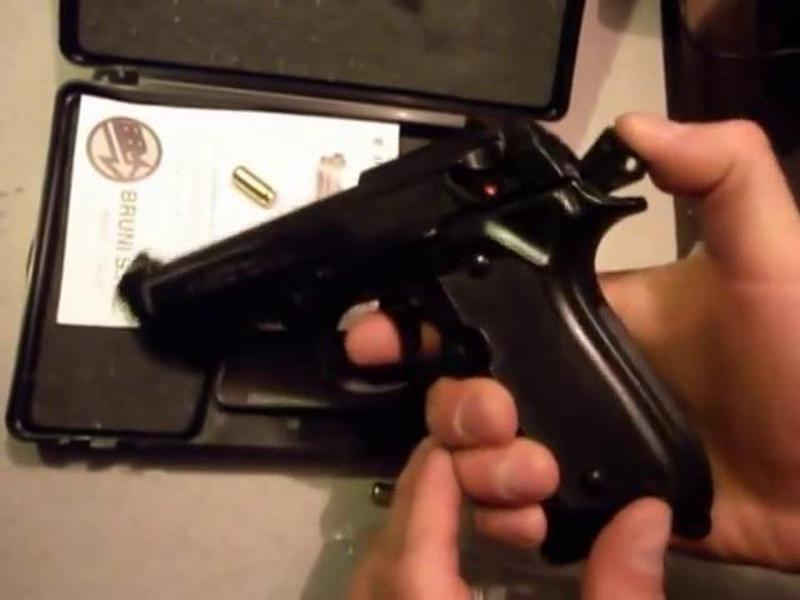Pistola: (115, 93, 737, 551)
